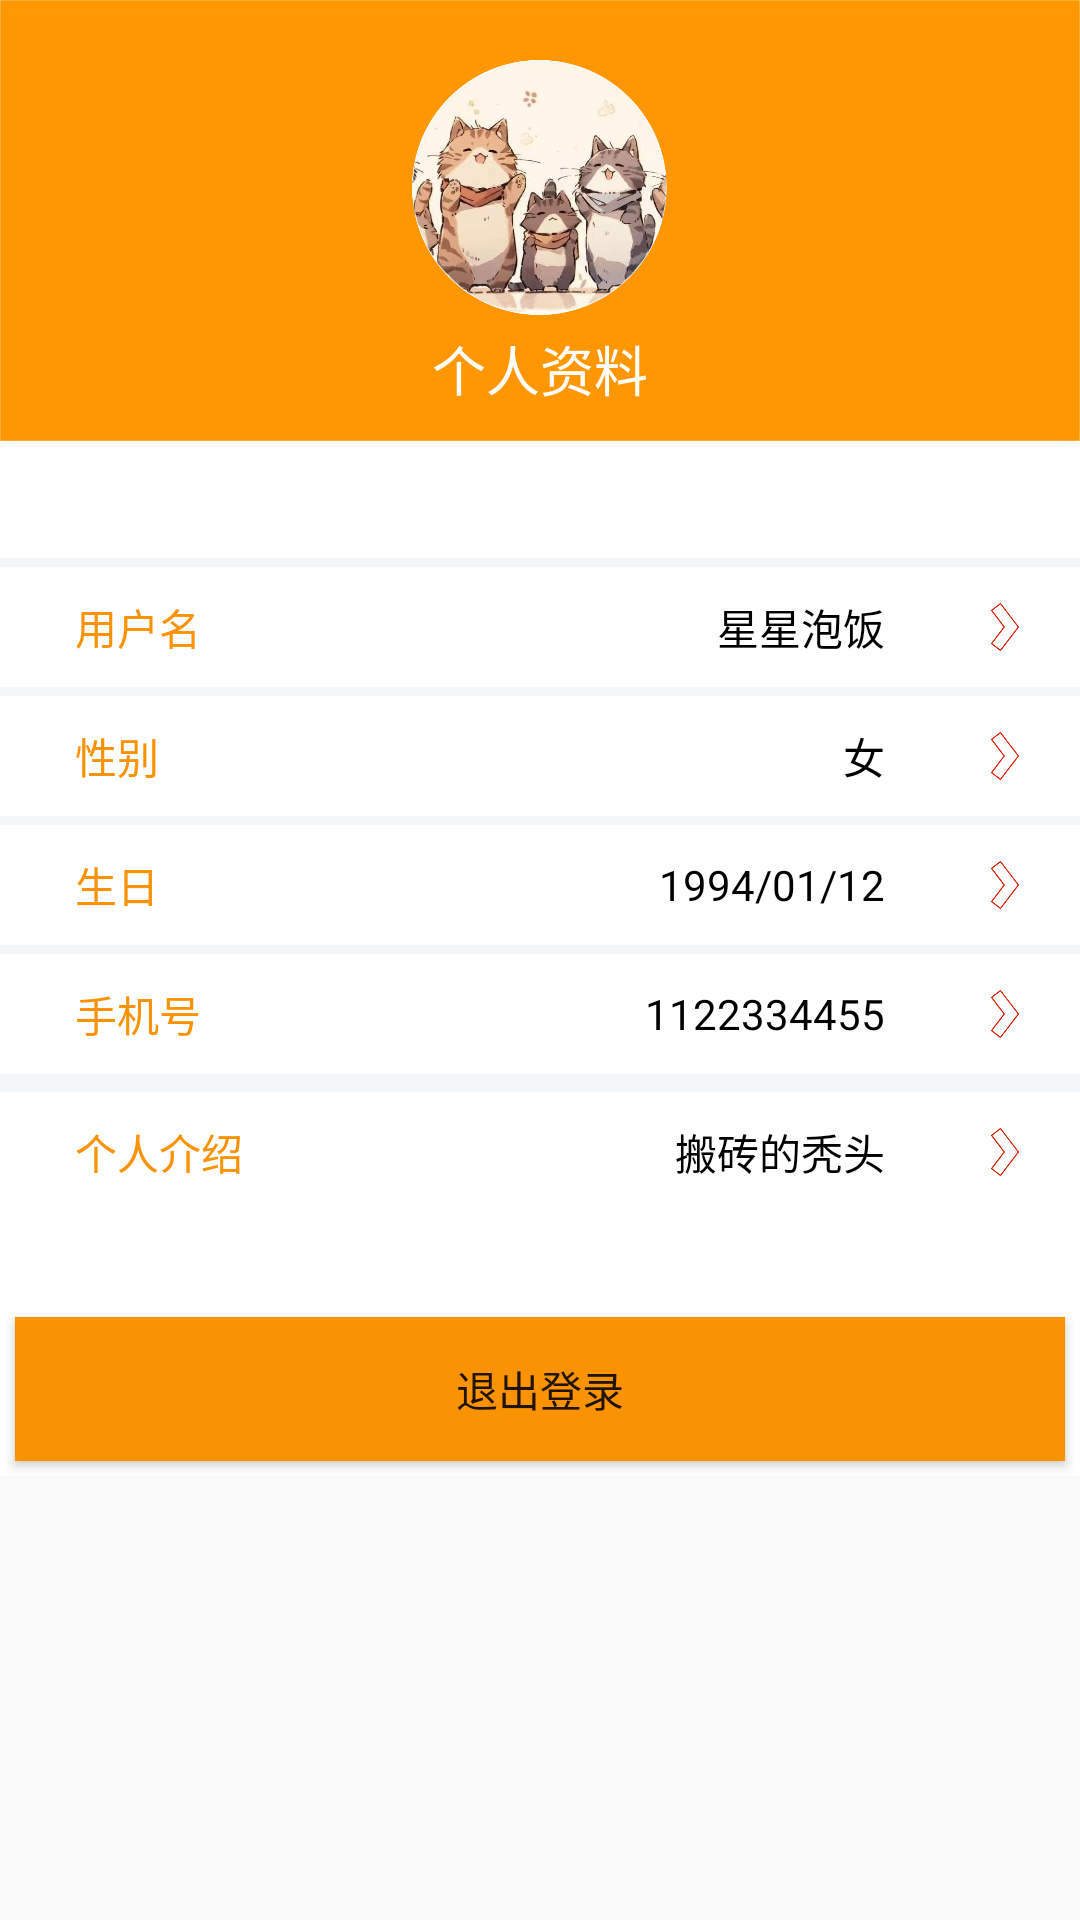

Point at icon controls on the screen. Image size 1080w x 1920h, points as [x,y].
right: [1005,627], [1005,756], [1005,885], [1005,1014], [1005,1152]
